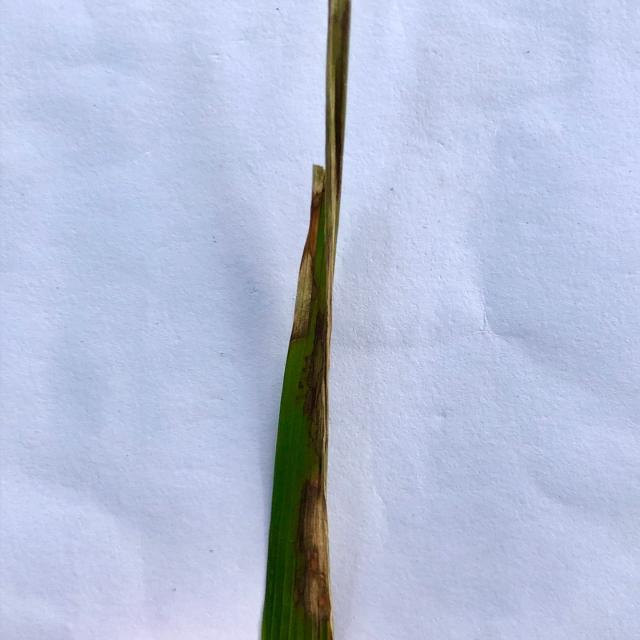Leaf Blight: (291, 1, 350, 640), (289, 162, 324, 344)
